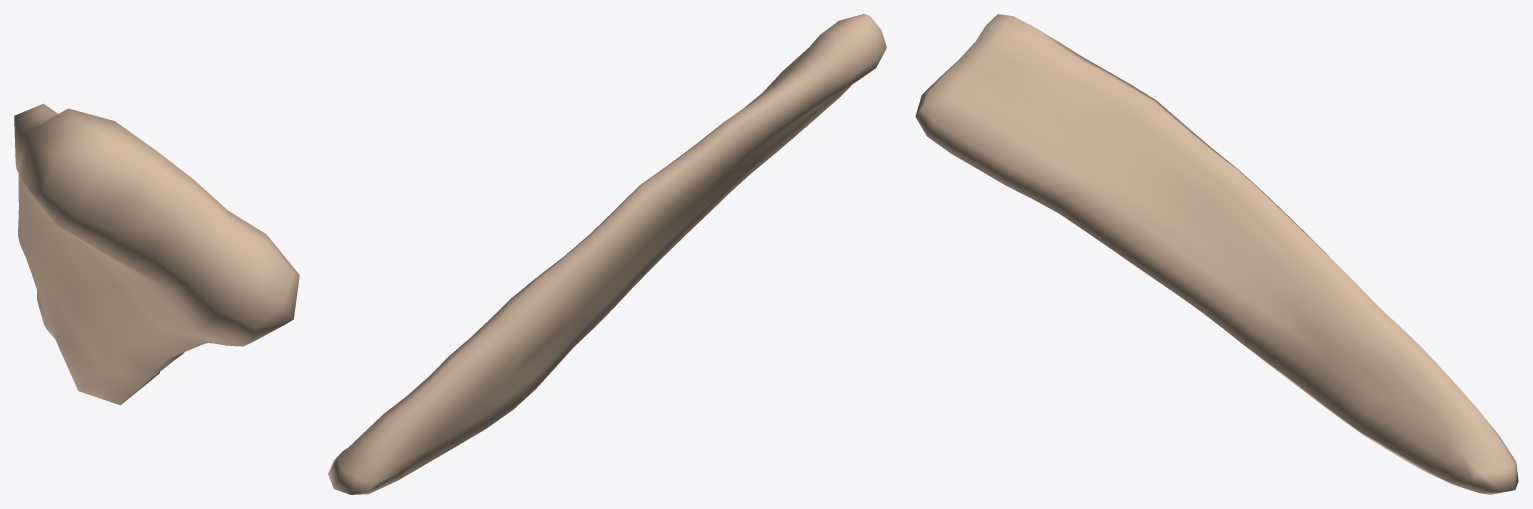
3 renders of one model, left to right at view 1: azimuth 30°, elevation 25°; view 2: azimuth 150°, elevation 25°; view 3: azimuth 270°, elevation 25°, orthographic. The views are drawn at different scales.
Visible parts, largest first — view 1: 左侧拇长展肌与拇短伸肌腱鞘; view 2: 左侧拇长展肌与拇短伸肌腱鞘; view 3: 左侧拇长展肌与拇短伸肌腱鞘.
Part boxes in pixels (<box>): 左侧拇长展肌与拇短伸肌腱鞘: <box>14,103,299,405</box>; 左侧拇长展肌与拇短伸肌腱鞘: <box>328,14,886,494</box>; 左侧拇长展肌与拇短伸肌腱鞘: <box>915,14,1518,494</box>.
Size of the model in its own units: 0.042 by 0.0467 by 0.0724.
